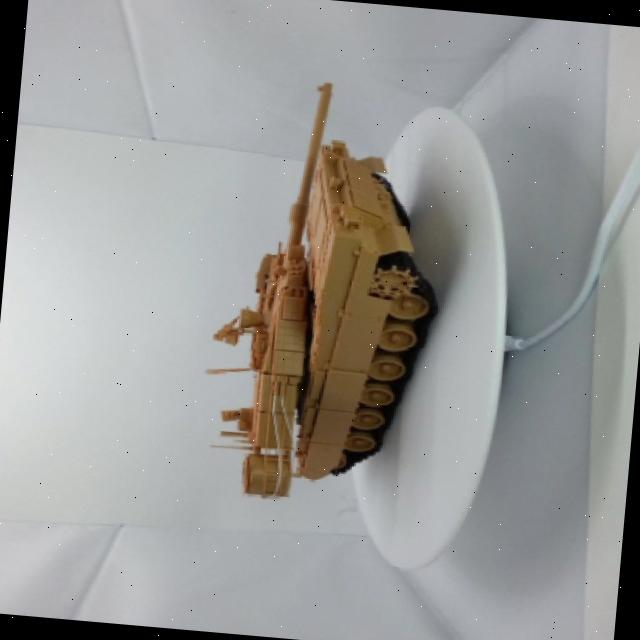korea tank: (172, 59, 460, 517)
